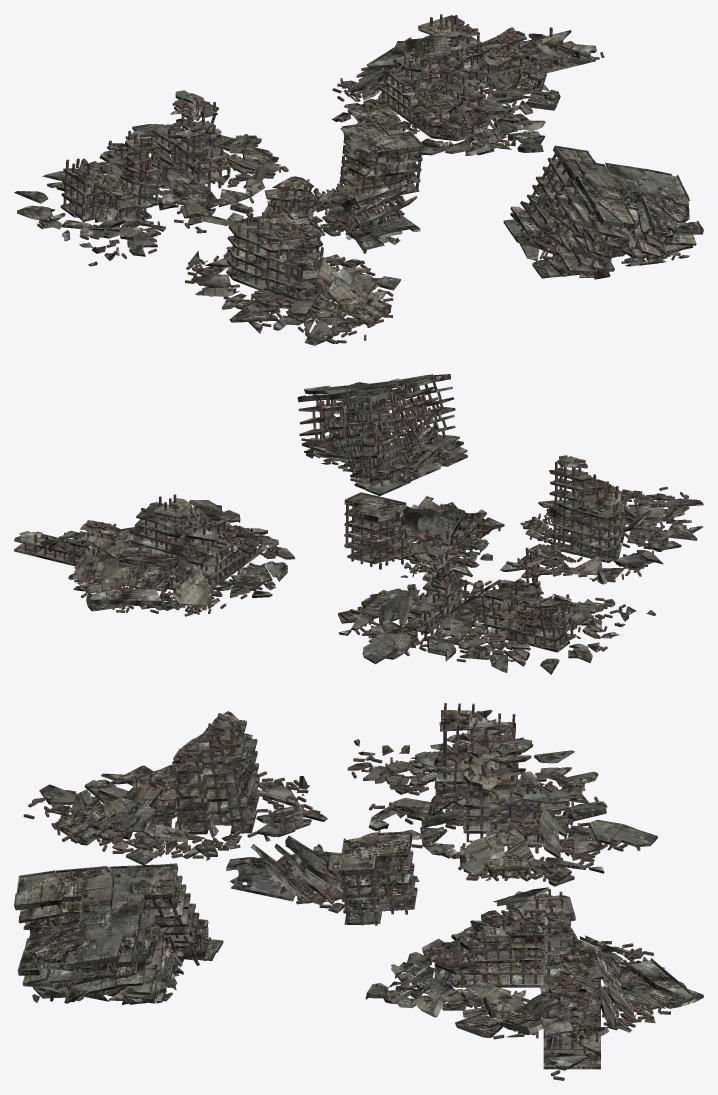
The model's file is ruin_city.glb.
3 renders of one model, top to bottom at view 1: azimuth 30°, elevation 25°; view 2: azimuth 150°, elevation 25°; view 3: azimuth 270°, elevation 25°, orthographic. The views are drawn at different scales.
Parts seen in each view (by area): view 1: ruim.005, ruim.007, ruim.006, ruim.009, ruim.008; view 2: ruim.005, ruim.007, ruim.009, ruim.006, ruim.008; view 3: ruim.005, ruim.007, ruim.009, ruim.006, ruim.008.
Part boxes in pixels (x1=…): ruim.005: x1=332, y1=14, x2=604, y2=155; ruim.007: x1=14, y1=90, x2=288, y2=266; ruim.006: x1=185, y1=176, x2=400, y2=345; ruim.009: x1=503, y1=145, x2=703, y2=279; ruim.008: x1=305, y1=121, x2=423, y2=253; ruim.005: x1=14, y1=494, x2=294, y2=616; ruim.007: x1=338, y1=530, x2=656, y2=674; ruim.009: x1=297, y1=374, x2=467, y2=495; ruim.006: x1=520, y1=455, x2=703, y2=584; ruim.008: x1=344, y1=492, x2=504, y2=581; ruim.005: x1=365, y1=887, x2=703, y2=1080; ruim.007: x1=347, y1=703, x2=657, y2=886; ruim.009: x1=14, y1=863, x2=223, y2=1004; ruim.006: x1=23, y1=711, x2=327, y2=864; ruim.008: x1=226, y1=829, x2=419, y2=925.
Size of the model in its own units: 309 by 47.07 by 265.
2 materials, 2 textured.
